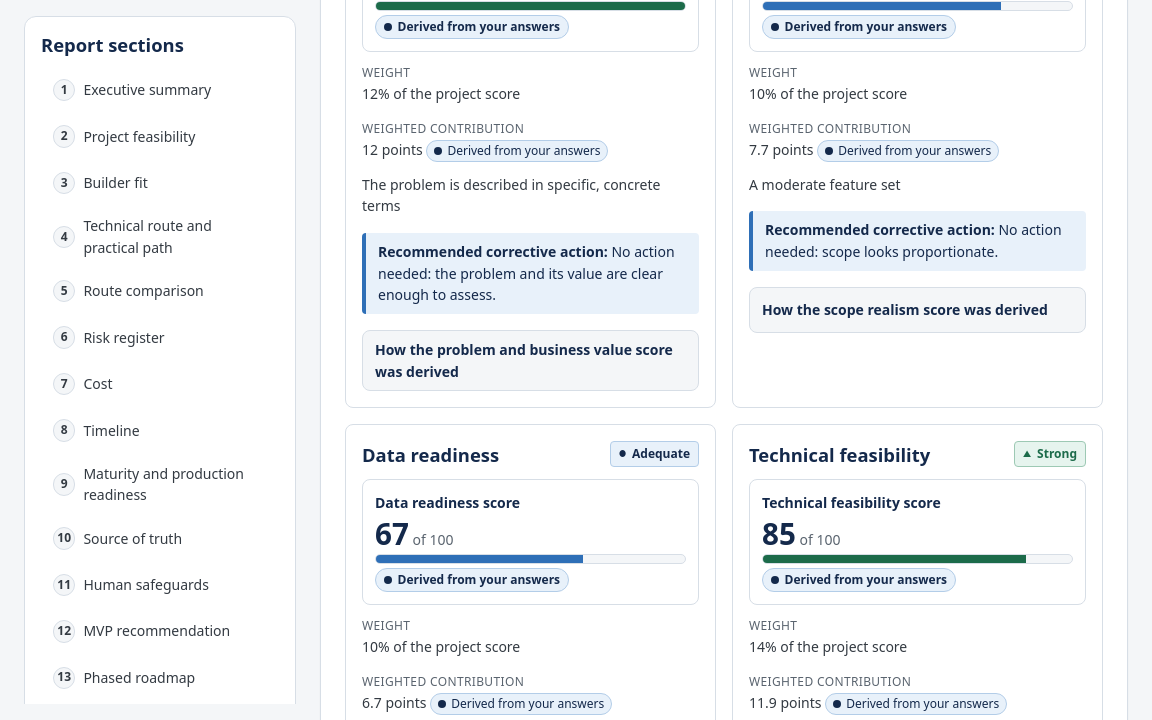
Scenario: project feasibility scorecards › never shows a score without its derivation
The image size is (1152, 720).
(page scrolled)
What coordinates should you click on to do the following:
click the heading "How the problem and business value score was derived"
I would click on:
 (530, 361)
Its box is [363,331,698,390].
(page scrolled)
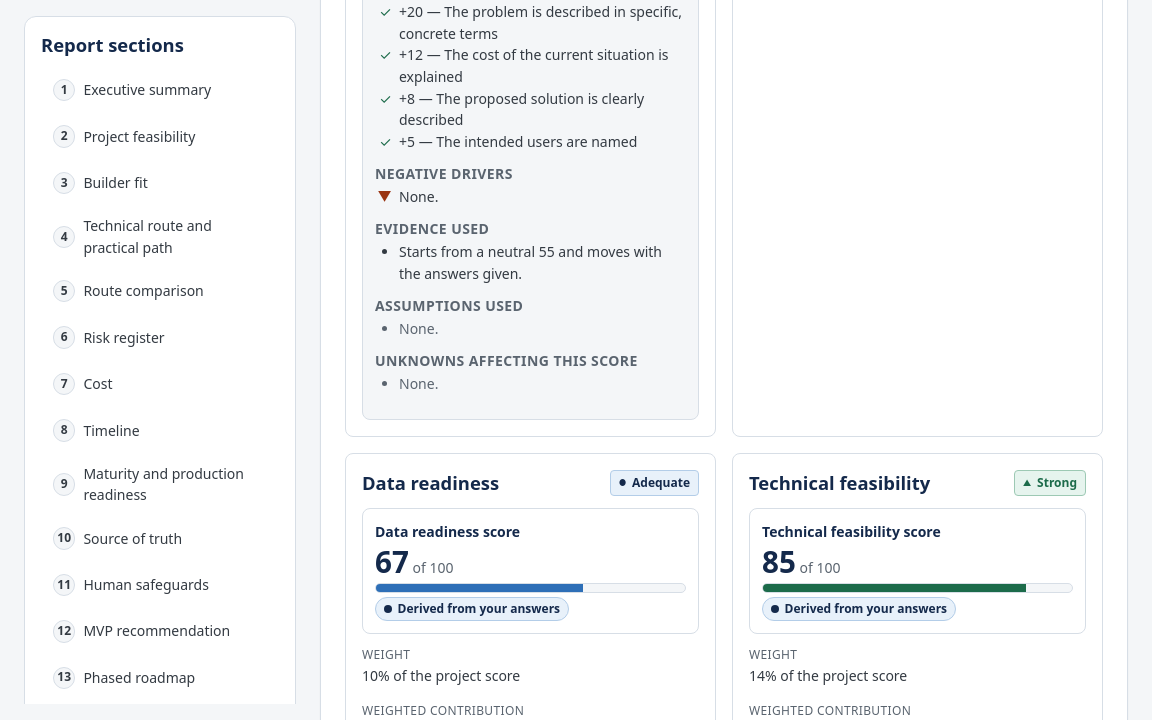
Check: the heading "Negative drivers" is shown, box [375,164,513,183]
Check: the heading "Evidence used" is shown, box [375,219,489,238]
Check: the heading "Assumptions used" is shown, box [375,296,523,315]
